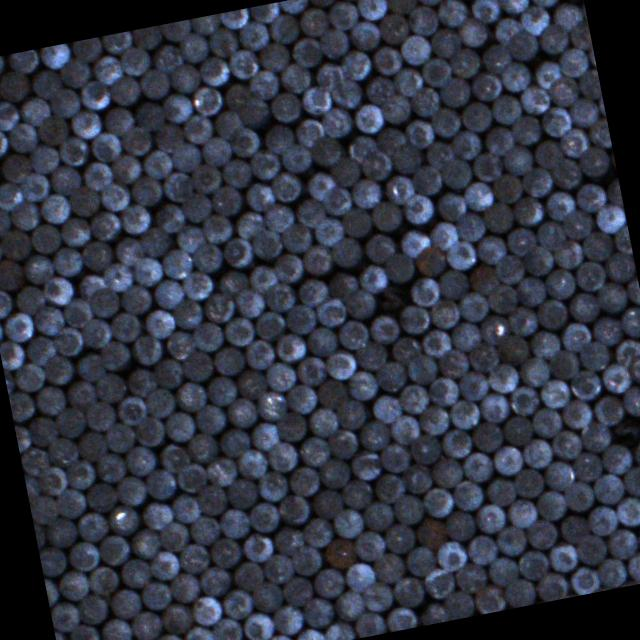tool: (299, 43, 356, 96), (422, 175, 476, 230), (22, 58, 71, 110), (415, 127, 465, 175), (212, 67, 258, 114), (340, 128, 380, 166), (465, 259, 504, 297), (157, 600, 195, 638), (125, 524, 163, 562), (411, 512, 449, 550), (148, 274, 186, 312), (400, 112, 438, 150), (47, 160, 85, 198), (368, 40, 406, 78), (170, 378, 208, 415), (210, 342, 248, 379), (299, 513, 337, 550), (346, 446, 384, 483), (407, 430, 444, 468), (379, 168, 416, 206), (33, 112, 72, 148), (419, 484, 456, 521), (368, 198, 405, 235), (466, 68, 503, 105), (248, 579, 286, 615), (82, 562, 120, 598), (42, 514, 80, 550), (81, 478, 119, 514), (286, 542, 324, 578), (274, 491, 312, 527), (338, 476, 376, 512), (578, 418, 614, 456), (294, 432, 332, 468), (504, 382, 542, 418), (556, 316, 592, 354), (588, 313, 626, 349), (21, 331, 59, 367), (140, 304, 176, 342), (20, 250, 56, 288), (348, 174, 386, 210), (328, 76, 366, 112), (98, 103, 136, 139), (276, 60, 314, 96), (498, 142, 536, 178), (426, 23, 464, 59), (216, 586, 253, 622), (240, 529, 276, 566), (24, 412, 61, 448), (471, 580, 508, 616), (452, 559, 489, 595), (403, 542, 439, 579), (320, 534, 357, 570), (370, 470, 407, 506), (530, 404, 566, 441), (591, 390, 627, 427), (282, 302, 319, 338), (434, 266, 471, 302), (129, 254, 166, 290), (65, 184, 102, 220), (180, 111, 217, 147), (235, 94, 272, 130), (131, 97, 167, 134), (577, 143, 613, 180), (467, 149, 504, 185), (388, 491, 426, 526), (480, 474, 518, 509), (468, 419, 506, 454), (494, 331, 532, 366), (294, 274, 332, 309), (244, 498, 280, 534), (74, 508, 110, 544), (104, 502, 140, 538), (194, 481, 230, 517), (300, 595, 336, 631), (420, 565, 456, 601), (574, 531, 610, 567), (604, 526, 640, 562), (310, 564, 346, 600), (342, 559, 378, 595), (590, 469, 626, 505), (269, 522, 305, 558), (518, 434, 554, 470), (316, 454, 352, 490), (264, 440, 300, 476), (476, 389, 512, 425), (484, 360, 520, 396), (546, 346, 582, 382), (233, 366, 269, 402), (534, 296, 570, 332), (566, 289, 602, 325), (594, 280, 630, 316), (366, 310, 402, 346), (484, 280, 520, 316), (514, 272, 550, 308), (572, 258, 608, 294), (602, 249, 638, 285), (262, 278, 298, 314), (444, 236, 480, 272), (560, 206, 596, 242), (362, 230, 398, 266), (542, 188, 578, 224), (408, 162, 444, 198), (58, 212, 94, 248), (86, 208, 122, 244), (242, 178, 278, 214), (128, 172, 164, 208), (158, 169, 194, 205), (278, 140, 314, 176), (307, 132, 343, 168), (150, 118, 186, 154), (268, 88, 304, 124), (67, 105, 103, 141), (538, 103, 574, 139), (530, 58, 566, 94), (418, 54, 454, 90), (536, 21, 572, 57), (16, 92, 52, 128), (47, 84, 83, 120), (107, 72, 143, 108), (196, 52, 232, 88), (288, 34, 324, 70), (205, 24, 241, 60), (206, 534, 243, 569), (30, 382, 67, 417), (463, 532, 500, 567), (274, 408, 309, 445), (351, 338, 388, 373), (303, 324, 340, 359), (383, 249, 418, 286), (78, 237, 115, 272), (199, 210, 234, 247), (36, 190, 71, 227), (377, 10, 412, 47), (235, 18, 272, 53), (532, 570, 570, 604), (49, 598, 84, 634), (166, 570, 202, 605), (173, 460, 208, 496), (44, 434, 80, 469), (190, 319, 226, 354), (566, 562, 602, 597), (390, 575, 426, 610), (472, 501, 508, 536), (428, 454, 464, 489), (459, 449, 495, 484), (286, 463, 322, 498), (560, 395, 596, 430), (568, 367, 604, 402), (426, 374, 462, 409), (455, 368, 491, 403), (514, 354, 550, 389), (374, 358, 409, 394), (404, 352, 440, 387), (262, 359, 298, 394), (447, 318, 483, 353), (242, 336, 278, 371), (272, 331, 308, 366), (221, 314, 257, 349), (253, 308, 288, 344), (0, 308, 35, 344), (12, 282, 48, 317), (170, 298, 205, 334), (232, 286, 267, 322), (326, 266, 362, 301), (100, 259, 135, 295), (339, 204, 374, 240), (138, 223, 173, 259), (116, 201, 152, 236), (210, 182, 246, 217), (219, 156, 254, 192), (138, 146, 173, 182), (291, 114, 327, 149), (27, 140, 62, 176), (188, 81, 224, 116), (548, 157, 584, 192), (437, 156, 473, 191), (458, 98, 493, 134), (488, 91, 524, 126), (117, 43, 153, 78), (106, 587, 143, 621), (160, 409, 197, 443), (555, 510, 592, 544), (307, 486, 344, 520), (600, 359, 634, 396), (412, 244, 449, 278), (213, 266, 250, 300), (220, 233, 254, 270), (50, 243, 84, 280), (150, 200, 187, 234), (203, 453, 238, 488), (233, 446, 268, 481), (217, 423, 252, 458), (92, 369, 127, 404), (11, 359, 46, 394), (516, 547, 551, 582), (381, 521, 416, 556), (360, 498, 395, 533), (489, 442, 524, 477), (357, 417, 392, 452), (248, 146, 283, 181), (497, 59, 532, 94), (196, 564, 232, 598), (146, 547, 180, 583), (168, 488, 202, 524), (112, 474, 148, 508), (204, 372, 238, 408), (372, 552, 408, 586), (450, 478, 484, 514), (542, 457, 578, 491), (600, 441, 634, 477), (548, 428, 584, 462), (256, 468, 290, 504), (500, 413, 536, 447), (537, 376, 573, 410), (283, 382, 319, 416), (526, 326, 562, 360), (322, 348, 358, 382), (478, 311, 512, 347), (336, 316, 370, 352), (544, 265, 578, 301), (314, 294, 348, 330), (580, 228, 616, 262), (202, 290, 236, 326), (298, 242, 334, 276), (40, 273, 74, 309), (160, 246, 194, 282), (188, 242, 224, 276), (400, 192, 434, 228), (28, 222, 64, 256), (360, 146, 394, 182), (109, 150, 143, 186), (227, 124, 261, 160), (350, 100, 384, 136), (56, 133, 90, 169), (87, 130, 123, 164), (361, 72, 397, 106), (558, 124, 592, 160), (448, 126, 482, 162), (480, 124, 516, 158), (509, 112, 545, 146), (546, 74, 582, 108), (406, 85, 442, 119), (518, 2, 552, 38), (77, 78, 111, 114), (138, 66, 172, 102), (168, 60, 204, 94), (256, 40, 292, 74), (57, 56, 93, 90), (508, 194, 546, 226), (548, 0, 586, 32), (226, 474, 260, 509), (122, 442, 156, 477), (132, 414, 166, 449), (54, 404, 88, 439), (180, 348, 215, 382), (359, 580, 394, 614), (280, 573, 314, 608), (525, 516, 560, 550), (585, 502, 619, 537), (562, 478, 597, 512), (327, 426, 362, 460), (388, 412, 423, 446), (418, 403, 452, 438), (369, 391, 404, 425), (577, 338, 611, 373), (418, 326, 453, 360), (397, 302, 432, 336), (455, 288, 490, 322), (406, 274, 441, 308), (107, 310, 142, 344), (356, 260, 391, 294), (117, 282, 152, 316), (397, 226, 432, 260), (110, 232, 144, 267), (292, 194, 327, 228), (321, 183, 355, 218), (180, 190, 214, 225), (98, 178, 132, 213), (262, 120, 297, 154), (161, 89, 195, 124), (460, 178, 495, 212), (520, 166, 555, 200), (555, 46, 590, 80), (506, 28, 540, 63), (397, 32, 432, 66), (346, 20, 381, 54), (296, 5, 331, 39), (406, 3, 441, 37), (28, 490, 61, 526), (151, 354, 184, 390), (484, 554, 520, 587), (438, 426, 474, 459), (520, 245, 556, 278), (0, 226, 33, 262), (79, 314, 112, 350), (532, 217, 568, 250), (329, 234, 365, 267), (372, 122, 408, 155), (168, 141, 204, 174), (116, 124, 152, 157), (270, 602, 304, 636), (76, 592, 110, 626), (260, 552, 294, 586), (54, 568, 88, 602), (118, 556, 152, 590), (176, 541, 210, 575), (66, 538, 100, 572), (54, 486, 88, 520), (93, 450, 127, 484), (157, 440, 191, 474), (74, 428, 108, 462), (102, 419, 136, 453), (142, 385, 176, 419), (123, 364, 157, 398), (129, 332, 163, 366), (442, 587, 476, 621), (546, 540, 580, 574), (434, 538, 468, 572), (495, 524, 529, 558), (443, 508, 477, 542), (505, 496, 539, 530), (535, 488, 569, 522), (330, 506, 364, 540), (512, 465, 546, 499), (570, 448, 604, 482), (448, 397, 482, 431), (397, 382, 431, 416), (254, 389, 288, 423), (428, 296, 462, 330), (343, 288, 377, 322), (474, 232, 508, 266), (593, 201, 627, 235), (30, 304, 64, 338), (86, 286, 120, 320), (180, 268, 214, 302), (426, 218, 460, 252), (279, 220, 313, 254), (310, 214, 344, 248), (270, 169, 304, 203), (304, 168, 338, 202), (390, 141, 424, 175), (19, 170, 53, 204), (379, 91, 413, 125), (299, 82, 333, 116), (340, 48, 374, 82), (490, 172, 524, 206), (518, 82, 552, 116), (390, 64, 424, 98), (448, 46, 482, 80), (318, 26, 352, 60), (268, 12, 302, 46), (41, 352, 74, 387), (164, 326, 197, 361), (503, 576, 538, 609), (595, 555, 628, 590), (344, 368, 379, 401), (52, 324, 85, 359), (172, 221, 207, 254), (262, 200, 297, 233), (329, 155, 364, 188), (188, 163, 223, 196), (321, 105, 356, 138), (5, 120, 38, 155), (565, 95, 600, 128), (429, 104, 464, 137), (437, 76, 472, 109), (227, 47, 260, 82), (177, 30, 210, 65), (138, 498, 174, 530), (112, 394, 148, 426), (388, 334, 424, 366), (503, 224, 539, 256), (0, 68, 31, 105), (324, 0, 361, 31), (188, 593, 222, 626), (140, 579, 174, 612), (217, 506, 250, 540), (64, 457, 98, 490), (186, 430, 219, 464), (193, 403, 227, 436), (224, 396, 258, 429), (62, 377, 96, 410), (72, 348, 105, 382), (352, 529, 386, 562), (378, 440, 412, 473), (247, 418, 280, 452), (305, 406, 338, 440), (333, 398, 366, 432), (434, 346, 468, 379), (293, 355, 327, 388), (552, 238, 586, 271), (60, 296, 94, 329), (454, 210, 488, 243), (481, 201, 515, 234), (574, 180, 608, 213), (8, 199, 42, 232), (200, 134, 233, 168), (530, 138, 563, 172), (478, 41, 512, 74), (456, 16, 490, 49), (89, 52, 122, 86), (95, 534, 130, 566), (399, 462, 434, 494), (466, 340, 501, 372), (506, 303, 538, 338), (0, 151, 32, 186), (250, 228, 283, 261), (128, 608, 162, 640), (157, 520, 191, 552), (144, 466, 176, 500), (34, 464, 68, 496), (100, 338, 132, 372), (332, 588, 364, 622), (313, 376, 347, 408), (494, 252, 526, 286), (232, 208, 266, 240), (80, 159, 114, 191), (210, 106, 244, 138), (187, 512, 220, 544), (84, 399, 116, 432), (246, 260, 279, 292), (272, 250, 305, 282), (248, 68, 280, 101), (490, 13, 523, 45), (241, 609, 275, 640), (38, 542, 69, 576), (232, 559, 264, 591), (351, 610, 386, 639), (68, 36, 104, 64), (19, 444, 50, 476), (383, 604, 418, 632), (38, 42, 73, 70), (74, 272, 106, 302), (152, 42, 182, 74), (612, 494, 640, 528), (435, 0, 469, 28), (0, 255, 25, 293), (8, 388, 35, 422), (576, 67, 603, 101), (611, 336, 640, 367), (96, 616, 133, 640), (0, 337, 26, 371), (6, 49, 40, 75), (130, 26, 163, 52), (467, 0, 500, 26), (210, 615, 244, 640), (416, 600, 448, 626), (586, 118, 612, 150), (248, 2, 282, 26), (568, 19, 593, 51), (100, 31, 132, 56), (0, 179, 24, 212), (0, 97, 21, 134), (355, 0, 390, 22), (620, 461, 640, 499), (189, 14, 223, 36), (619, 303, 640, 338), (611, 224, 633, 256), (160, 20, 192, 42), (220, 8, 252, 30), (63, 622, 102, 640), (620, 383, 640, 417), (321, 619, 353, 640), (181, 622, 218, 640), (603, 174, 623, 207), (384, 0, 421, 16), (622, 275, 640, 306), (24, 470, 41, 501), (495, 0, 530, 15), (0, 286, 15, 320), (293, 624, 324, 640), (625, 550, 640, 583), (0, 205, 13, 241), (279, 0, 310, 15), (14, 421, 30, 450), (626, 352, 640, 384), (525, 0, 562, 10), (0, 126, 10, 161), (630, 436, 640, 470), (151, 631, 186, 640), (262, 631, 294, 640), (307, 0, 339, 9), (413, 0, 446, 7), (336, 0, 369, 4)
tool_b: (374, 282, 414, 314), (609, 413, 640, 449)
